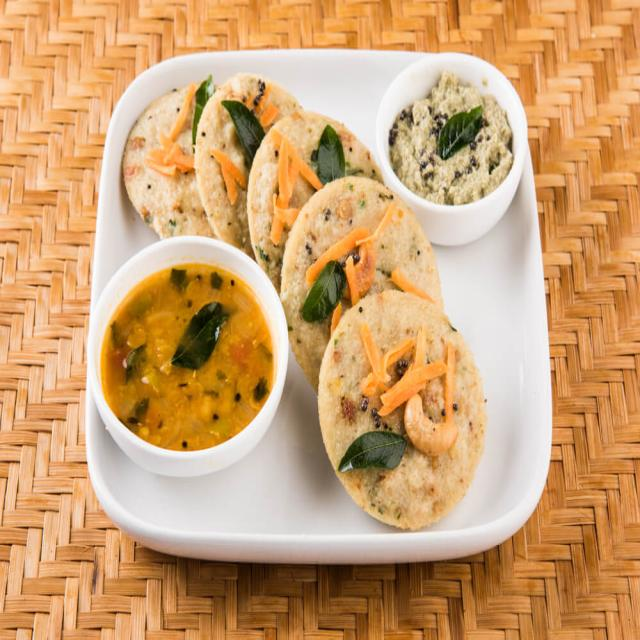rave idli: (311, 282, 494, 536), (282, 169, 436, 351), (118, 73, 217, 232), (246, 104, 348, 256), (198, 64, 278, 256)
